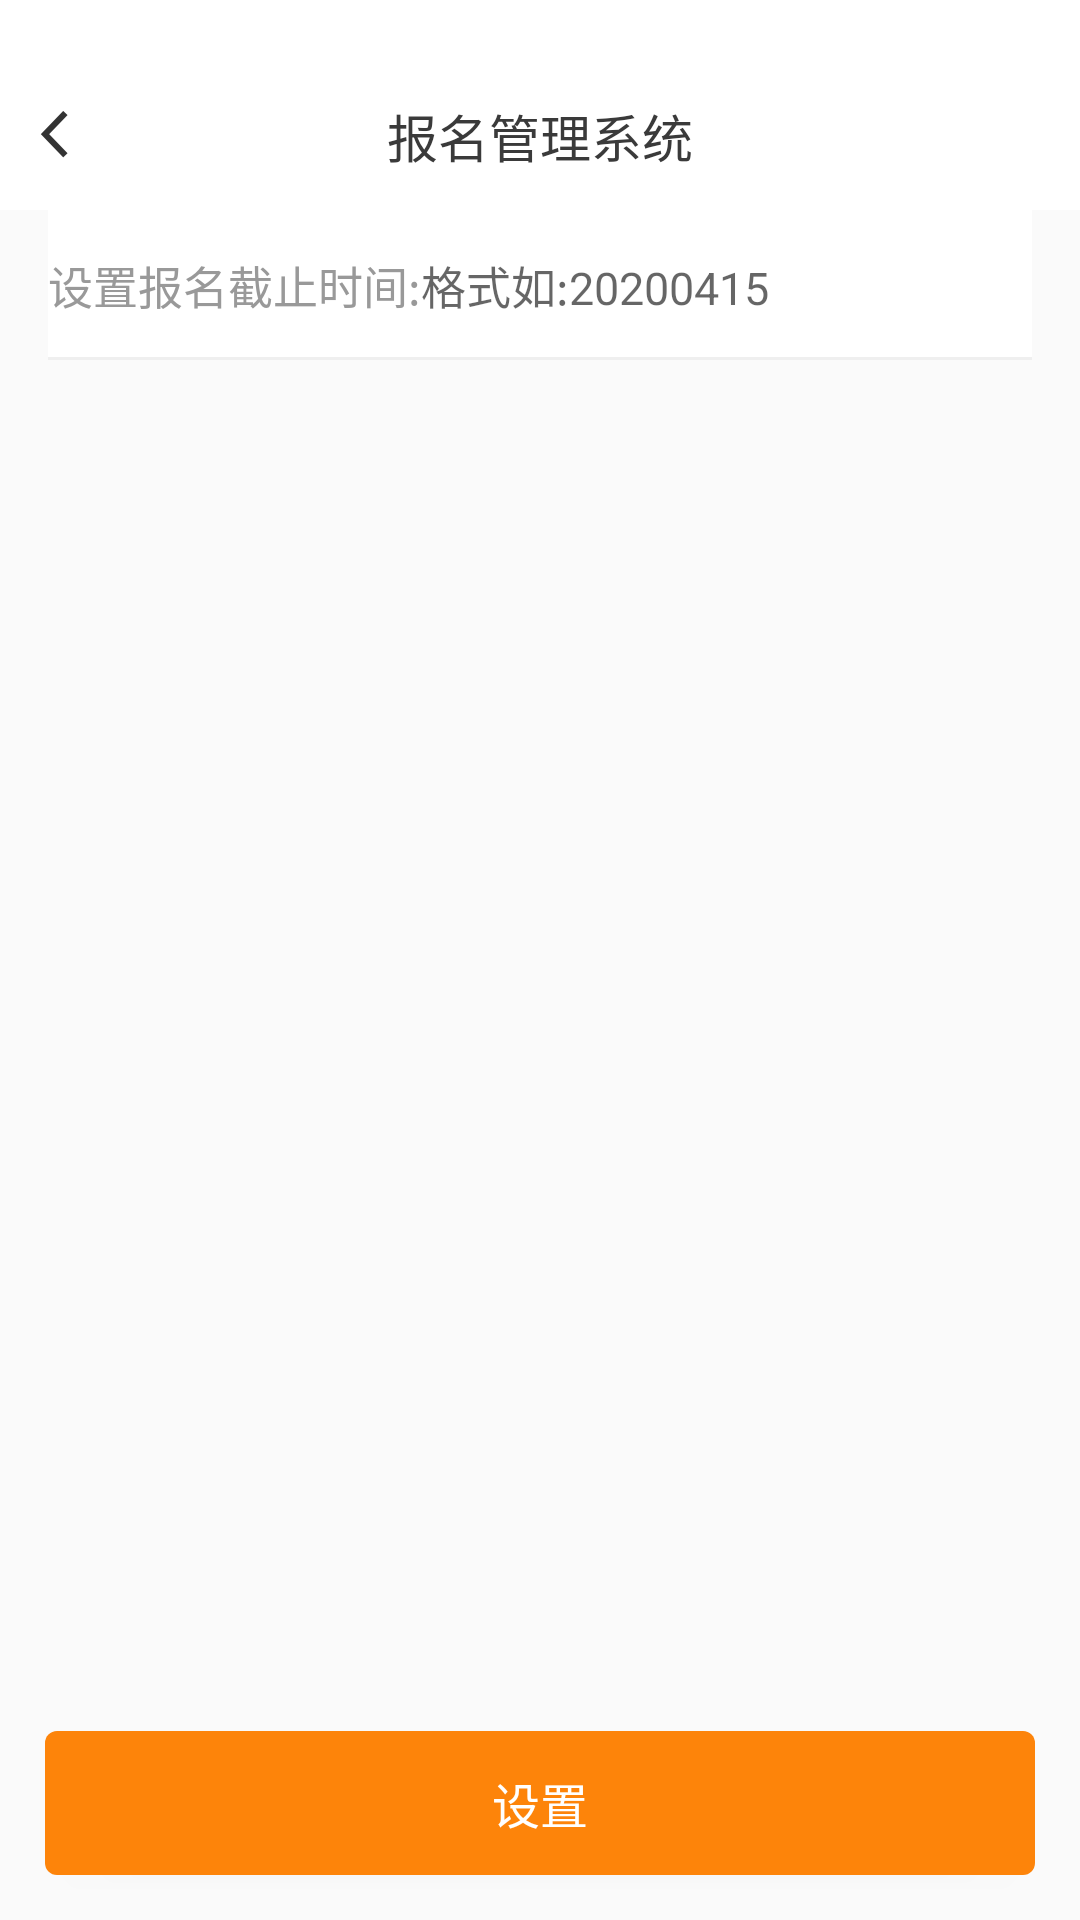

Locate icon controls on the screen. Image size 1080px x 1920px, boxes as (x1, y1, x2, y2).
back: (41, 111, 68, 158)
